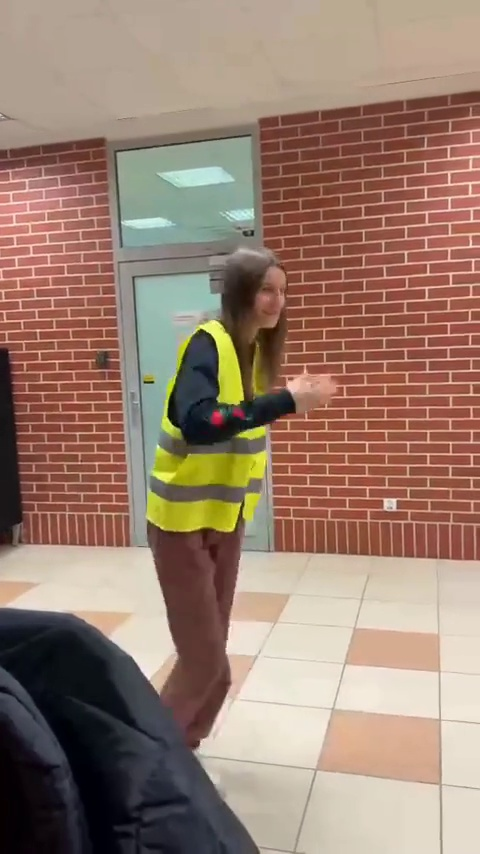vest: (154, 223, 329, 785)
